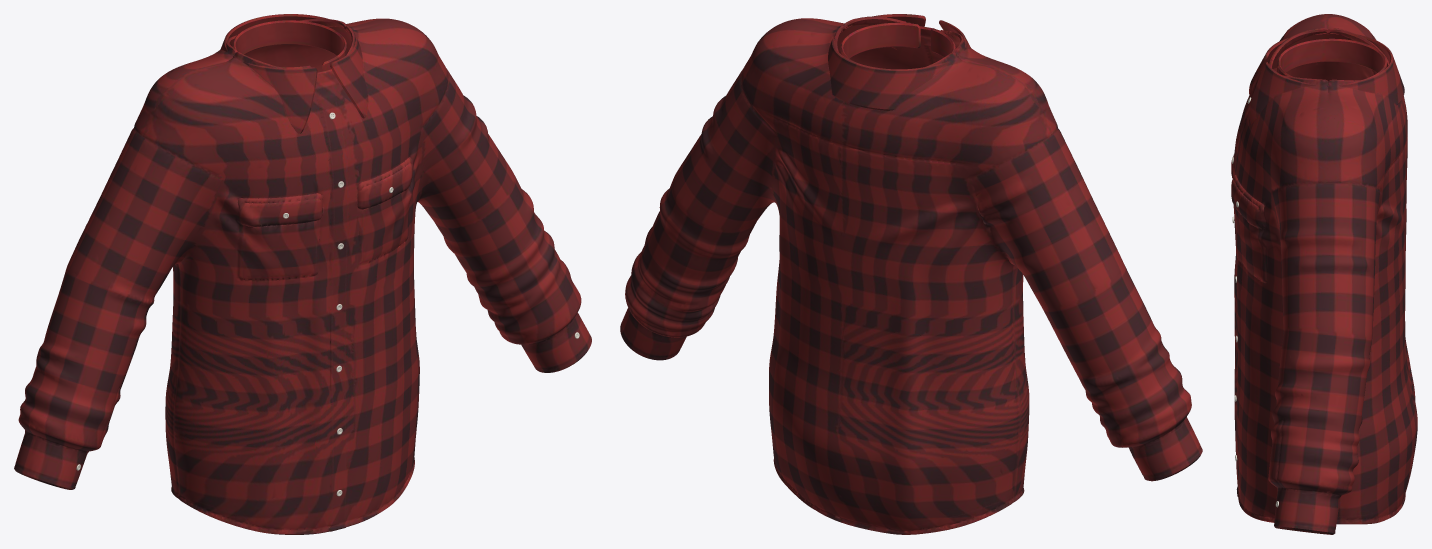
The model's file is 05_camisa_franela_pbr.glb.
The picture shows the model from 3 angles, left to right: view 1: azimuth 30°, elevation 25°; view 2: azimuth 150°, elevation 25°; view 3: azimuth 270°, elevation 25°; orthographic projection. The views are drawn at different scales.
Parts seen in each view (by area): view 1: Camiseta PBR; view 2: Camiseta PBR; view 3: Camiseta PBR.
Boxes of the visible parts, left/top/right/bottom form: Camiseta PBR: left=14, top=14, right=591, bottom=534; Camiseta PBR: left=620, top=14, right=1202, bottom=534; Camiseta PBR: left=1231, top=14, right=1417, bottom=534.
Bounding box in the file's own units: 1 × 0.7702 × 0.2958.
2 materials, 1 textured.
